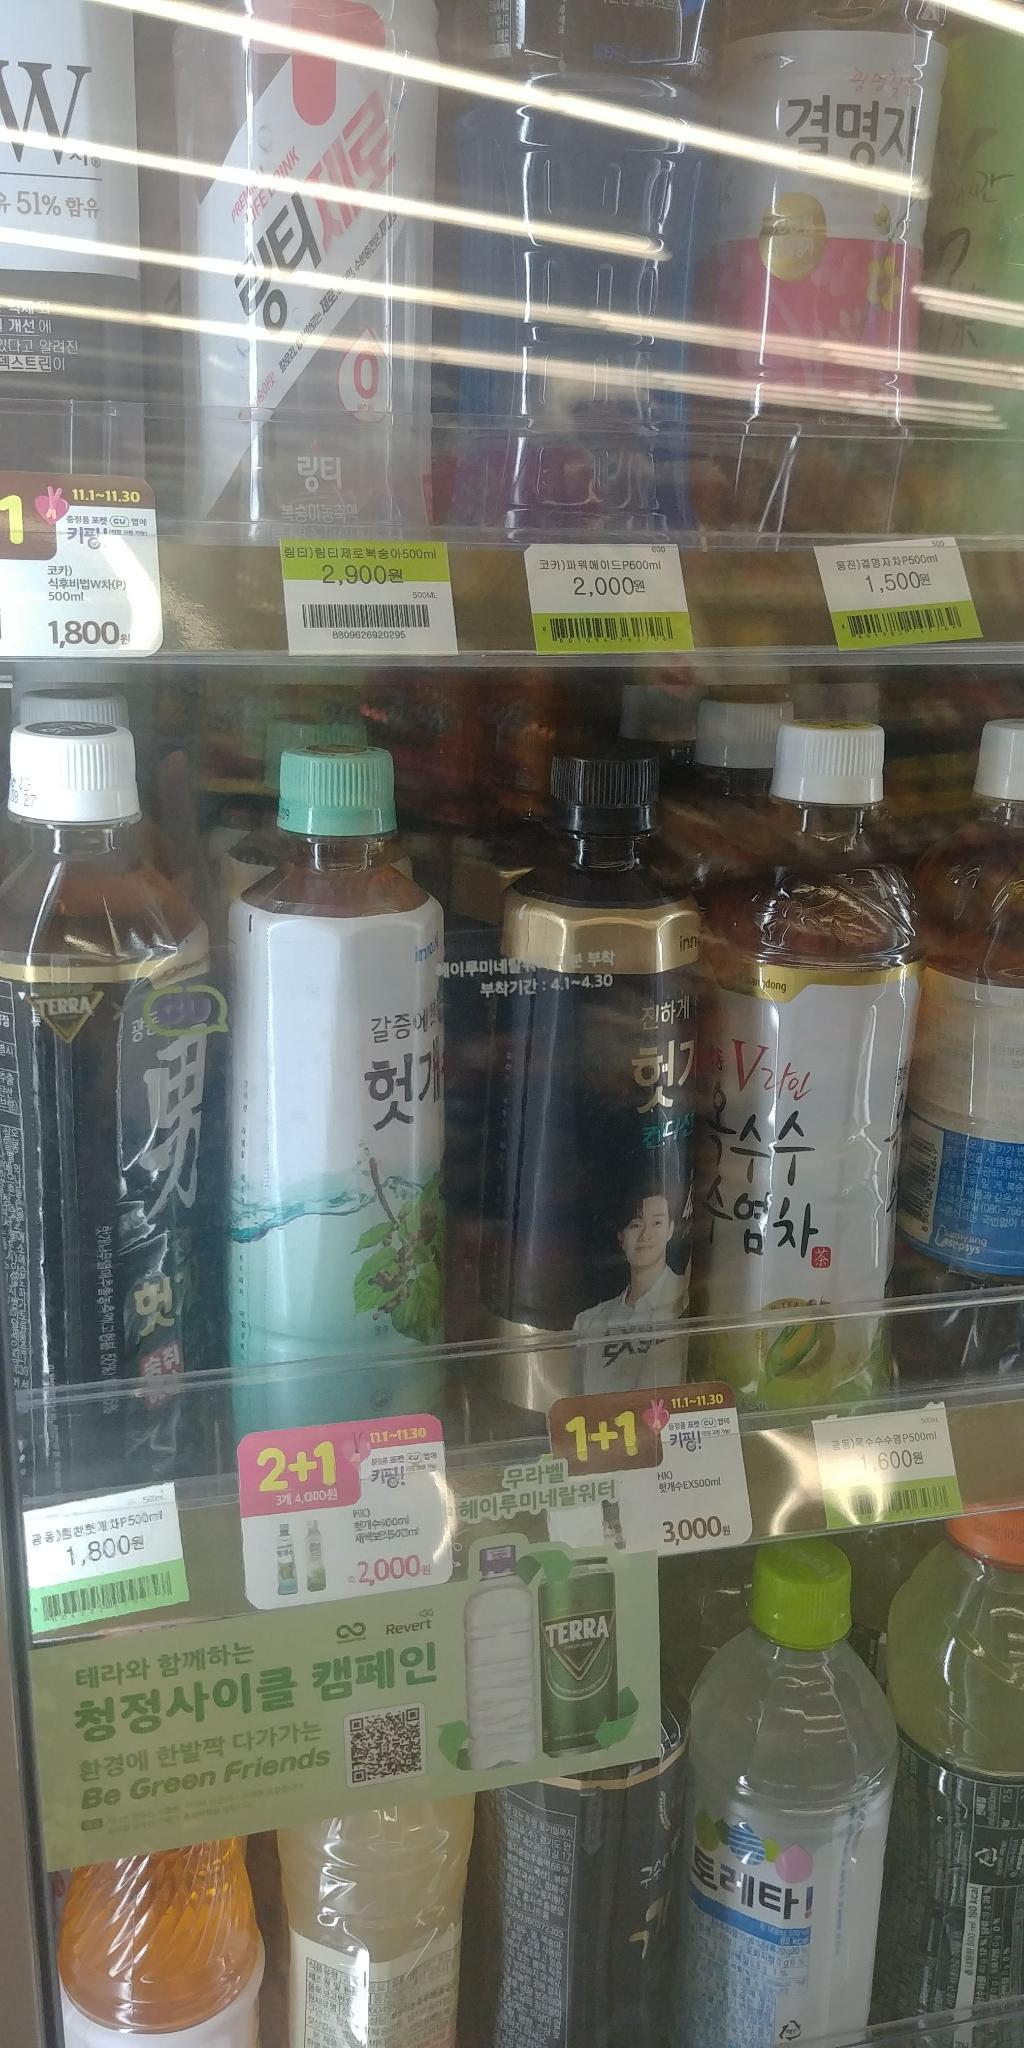heotgaecha: (0, 707, 246, 1529)
oksususuyeomcha: (704, 718, 931, 1442)
toreta: (673, 1533, 908, 2047)
